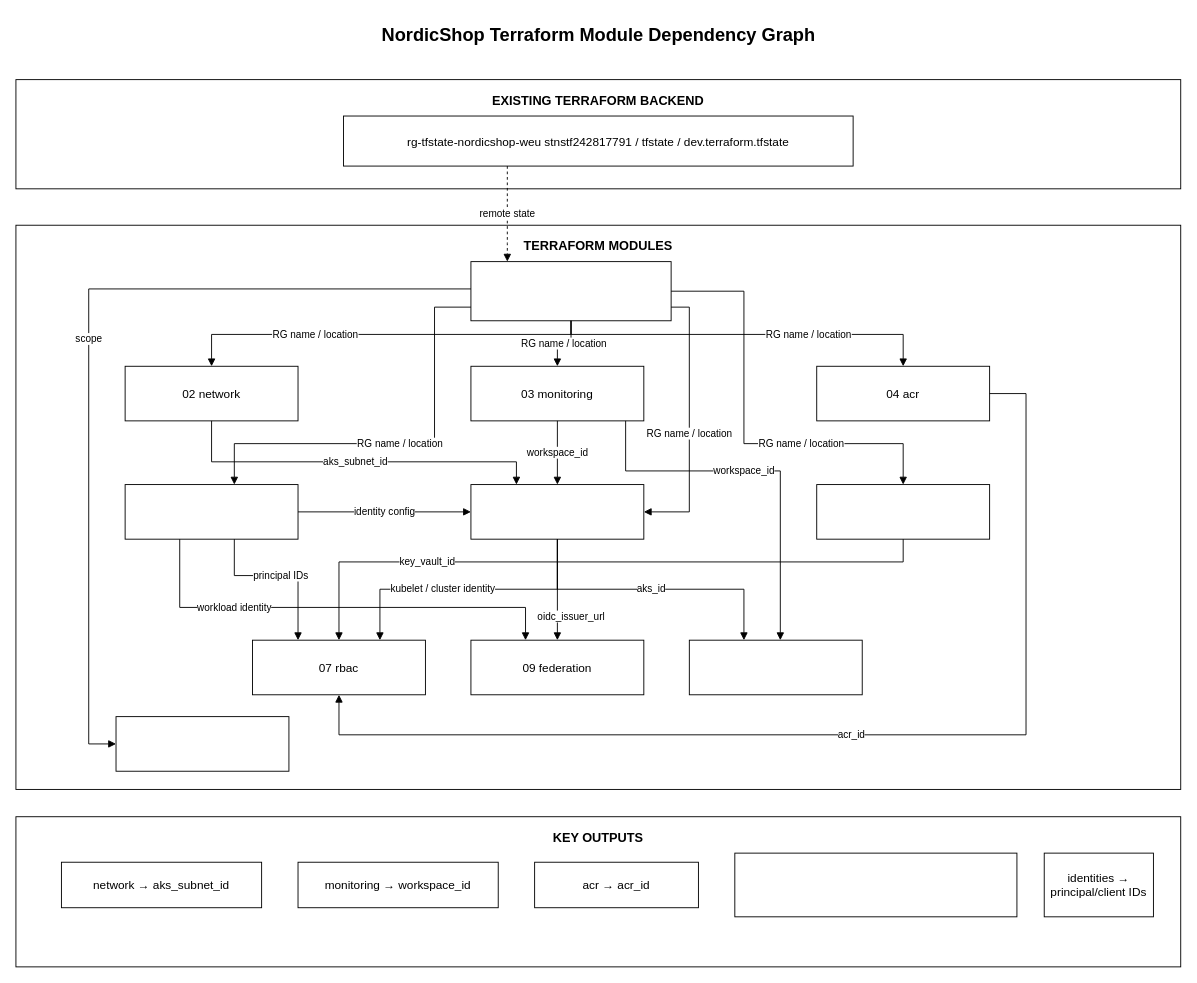
This 1197x983 diagram has some shape labels left out. Each missing label, with the centre of its shape:
"01 resource-group" goes at point (570, 291).
"05 identities" goes at point (211, 511).
"06 aks" goes at point (557, 511).
"08 key-vault" goes at point (903, 511).
"10 diagnostics" goes at point (775, 667).
"11 budget" goes at point (202, 743).
"aks → oidc_issuer_url + kubelet identity" goes at point (875, 884).
